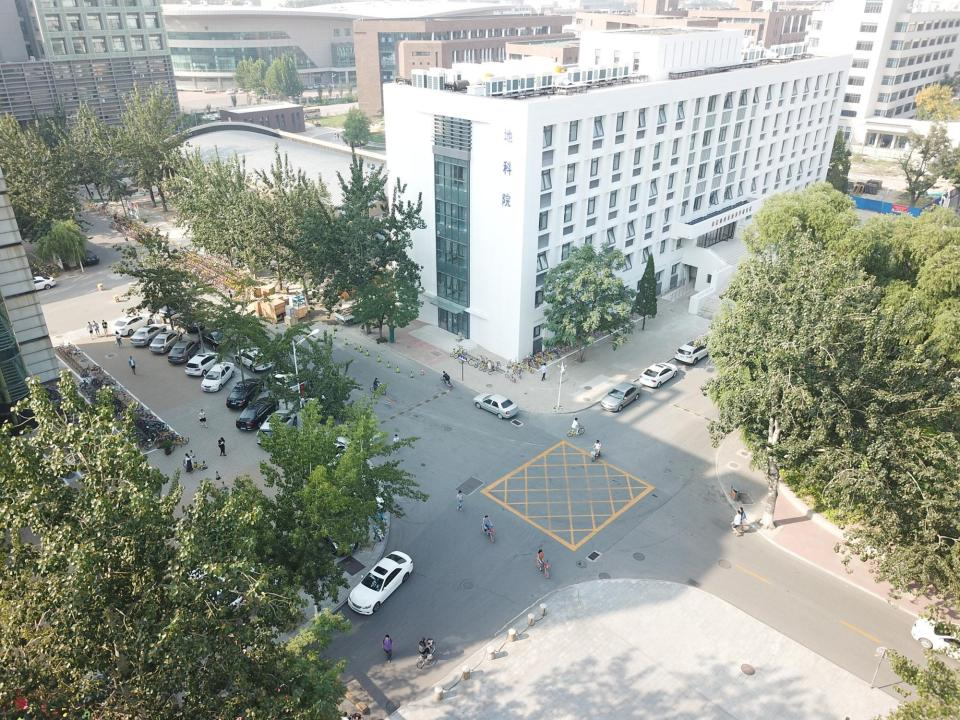bus: (298, 106, 320, 120)
car: (348, 551, 412, 615), (184, 564, 242, 626), (907, 616, 960, 664), (311, 509, 359, 555), (256, 409, 298, 444), (236, 397, 278, 430), (600, 380, 641, 412), (226, 377, 264, 409), (343, 416, 382, 447), (473, 393, 518, 419), (674, 339, 715, 365), (640, 362, 677, 390), (201, 362, 234, 392), (111, 314, 153, 336), (235, 348, 273, 372), (185, 352, 221, 377), (268, 368, 300, 394), (168, 338, 201, 363), (130, 324, 167, 346), (300, 392, 334, 415), (150, 329, 182, 353), (199, 328, 233, 350), (146, 296, 177, 318), (170, 313, 204, 332), (71, 248, 99, 266), (20, 276, 55, 290), (202, 114, 214, 121), (211, 113, 223, 120), (324, 82, 336, 88), (304, 84, 313, 90), (290, 98, 299, 104), (306, 98, 314, 104), (226, 89, 235, 94), (316, 83, 325, 88), (300, 97, 306, 103), (311, 84, 318, 89), (238, 88, 244, 93)
truck: (333, 290, 385, 324), (203, 86, 217, 94)
